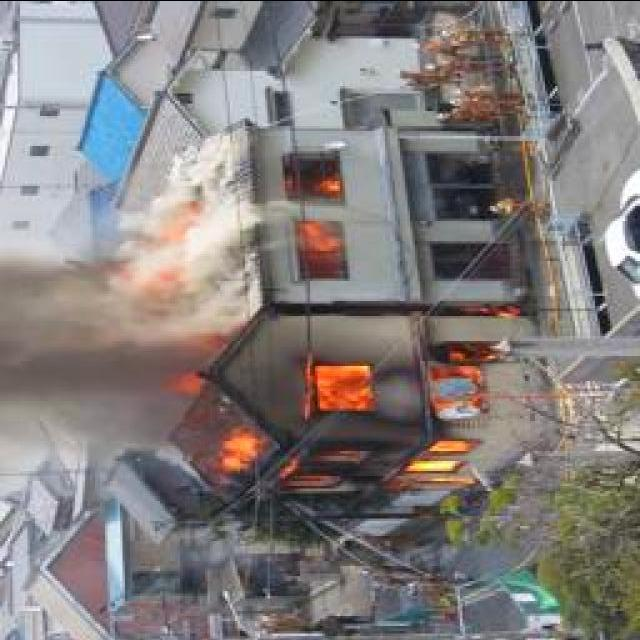Fire: (217, 341, 516, 499), (294, 154, 342, 286)
